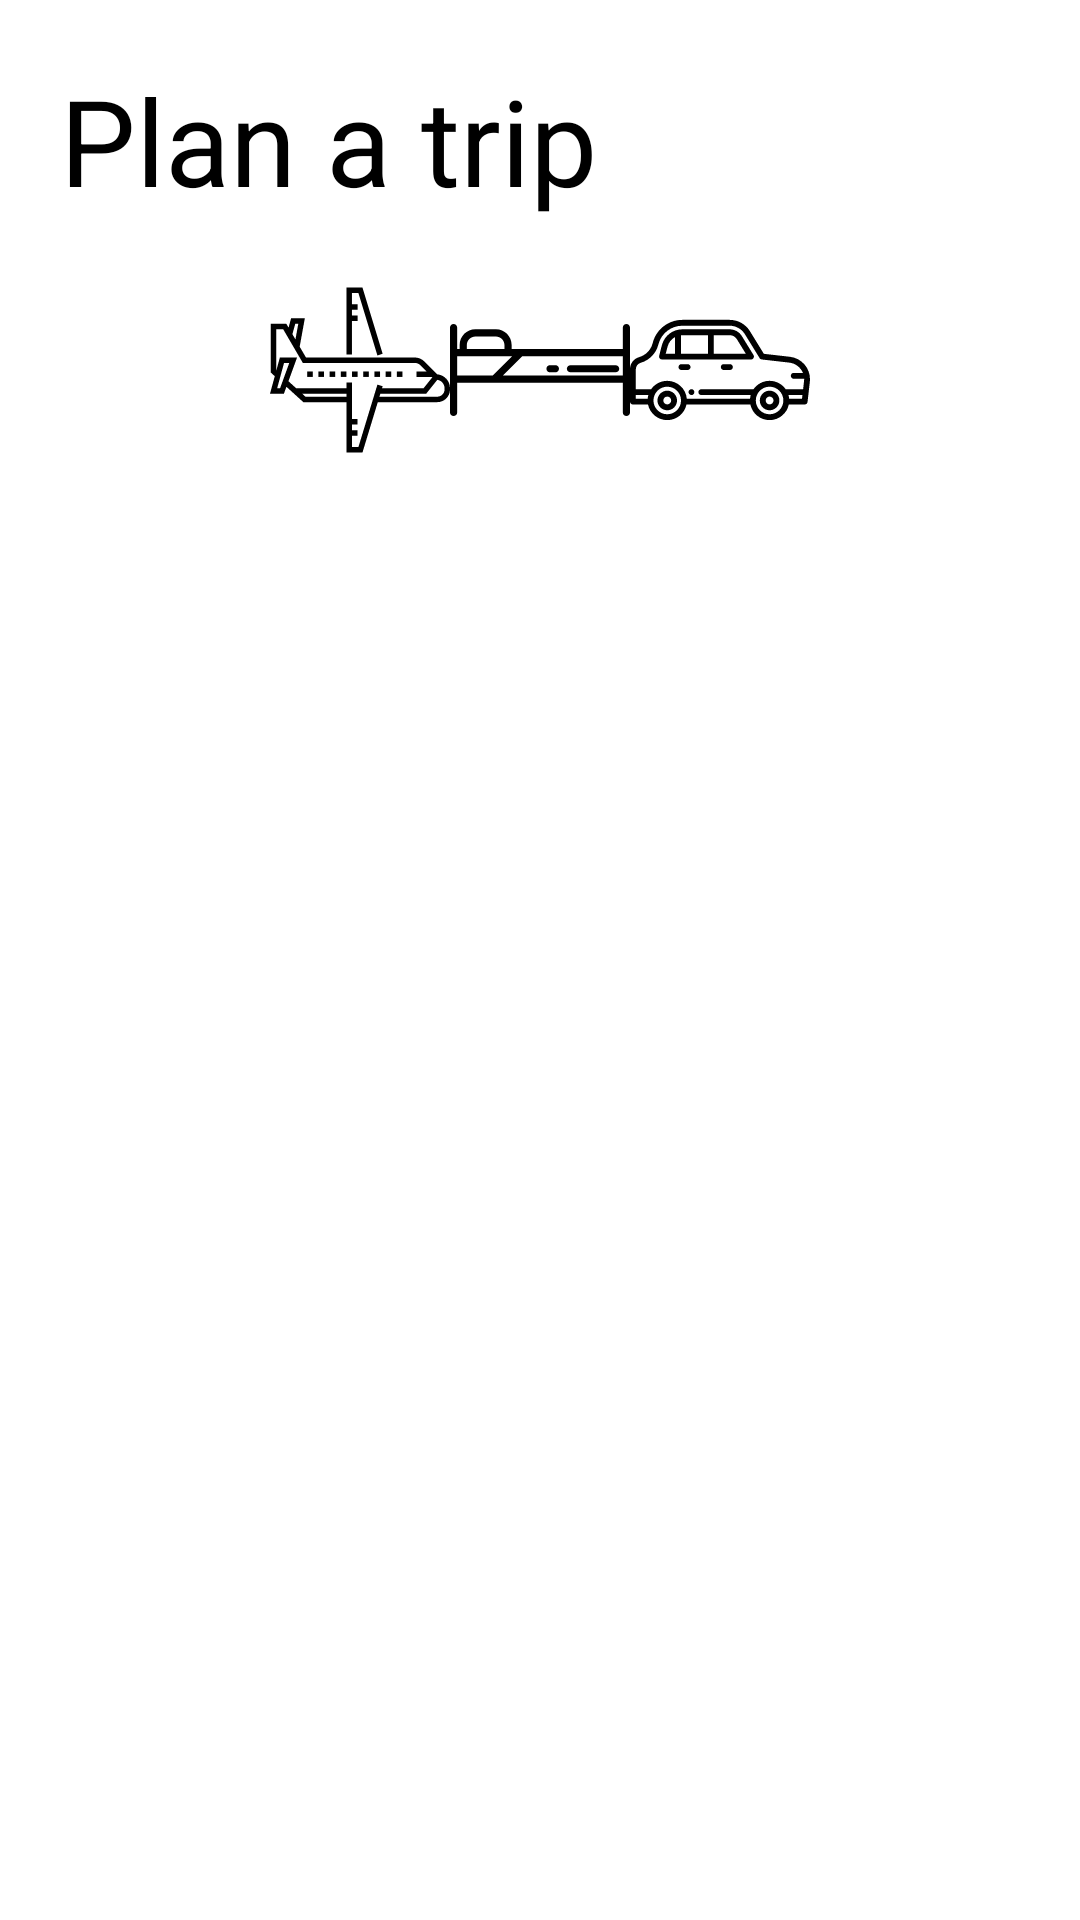

Screen size 1080×1920. Icon name, then its center in pixels as [x,y]:
airplane: [360,370]
bed: [540,370]
car: [720,369]
